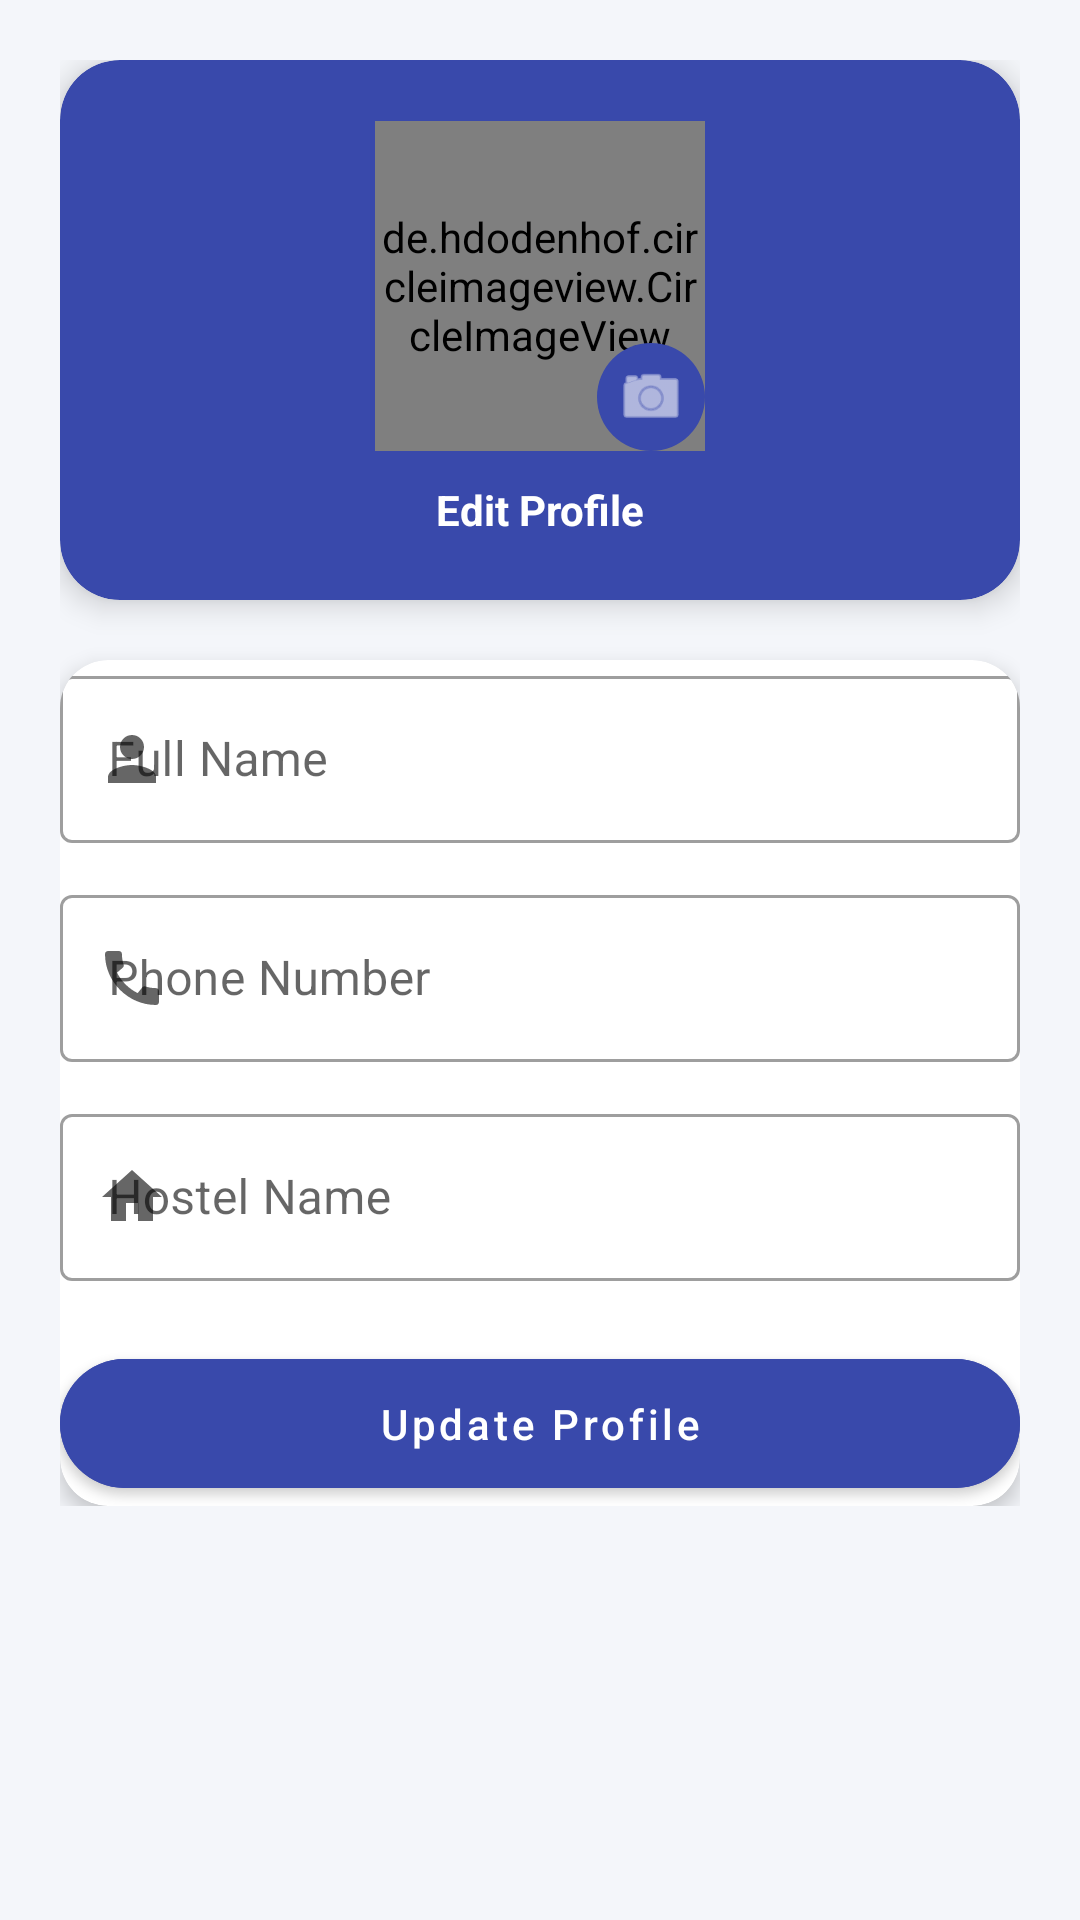

Icon click points for this 1080×1920 phone screenshot, format (x,y):
camera: (651,397)
